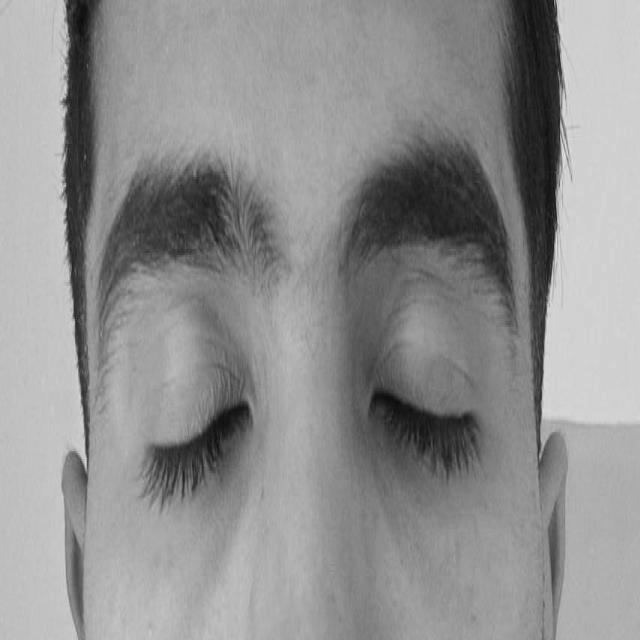real: (114, 286, 510, 536)
